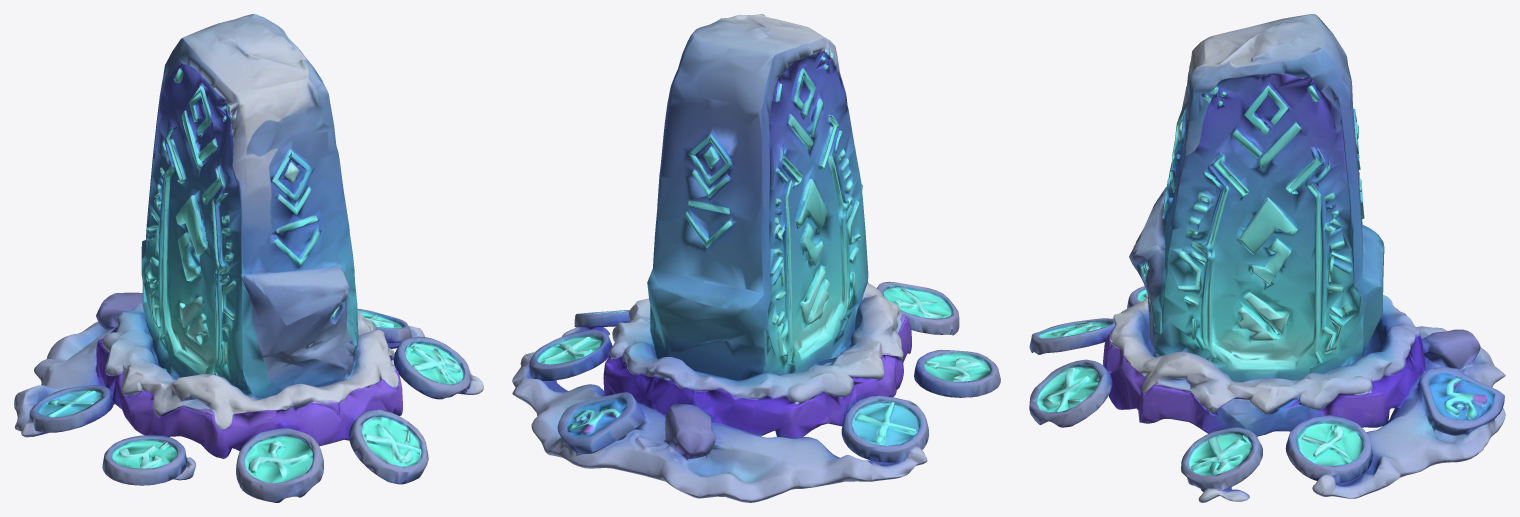
The model's file is pv-runestone-diet.glb.
The picture shows the model from 3 angles, left to right: view 1: azimuth 30°, elevation 25°; view 2: azimuth 150°, elevation 25°; view 3: azimuth 270°, elevation 25°; orthographic projection.
Parts seen in each view (by area): view 1: tripo_node_82dee97d-3563-4a4d-a07a-7eedb719876a; view 2: tripo_node_82dee97d-3563-4a4d-a07a-7eedb719876a; view 3: tripo_node_82dee97d-3563-4a4d-a07a-7eedb719876a.
Boxes of the visible parts, x1,y1,x2,y2 form: tripo_node_82dee97d-3563-4a4d-a07a-7eedb719876a: [14, 14, 483, 502]; tripo_node_82dee97d-3563-4a4d-a07a-7eedb719876a: [512, 14, 1000, 502]; tripo_node_82dee97d-3563-4a4d-a07a-7eedb719876a: [1029, 14, 1505, 502].
Bounding box in the file's own units: 0.96 × 0.8603 × 0.9802.
Materials: 1 (1 with a texture image).
